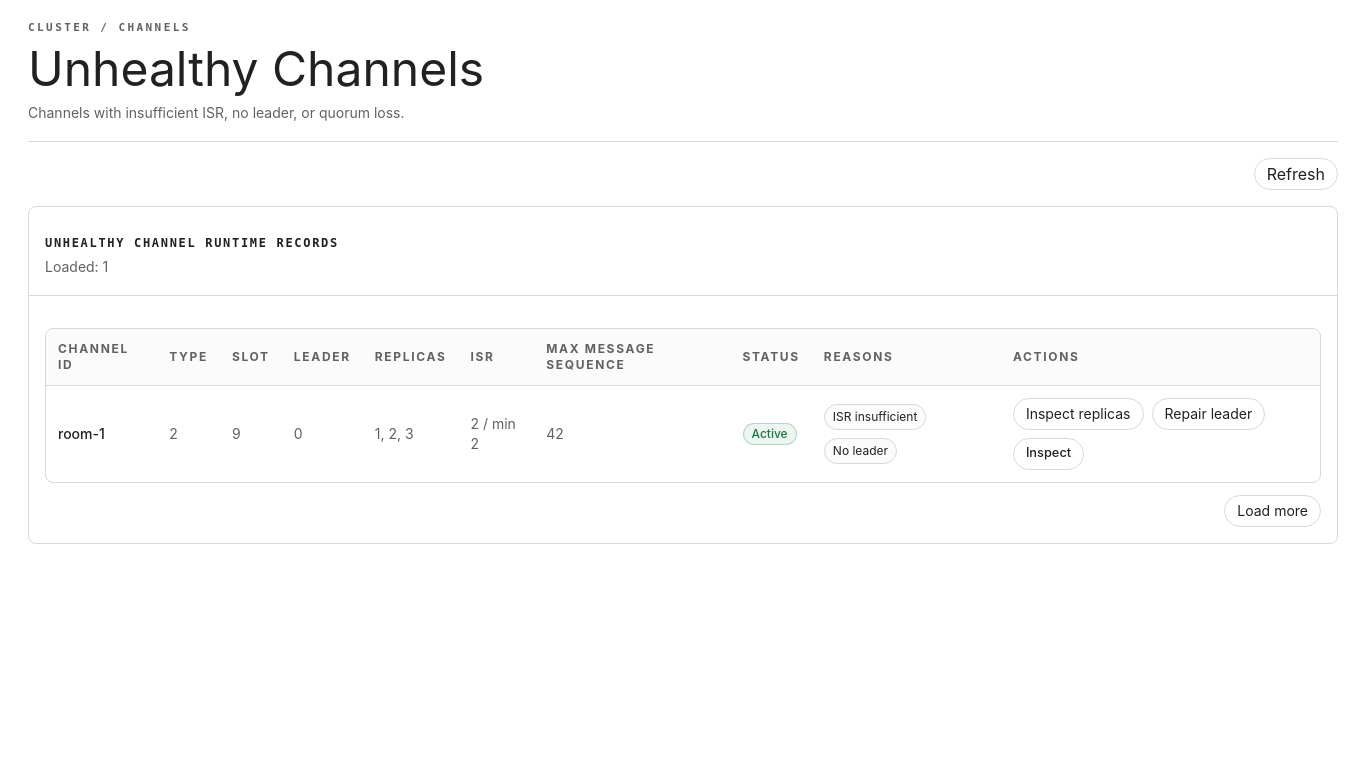
loads additional unhealthy pages with the returned cursor
The width and height of the screenshot is (1366, 768).
Check: the text "room-1" is shown, box [46,385,157,482]
Click the button "Load more".
click(1273, 510)  # box [1224,494,1321,526]
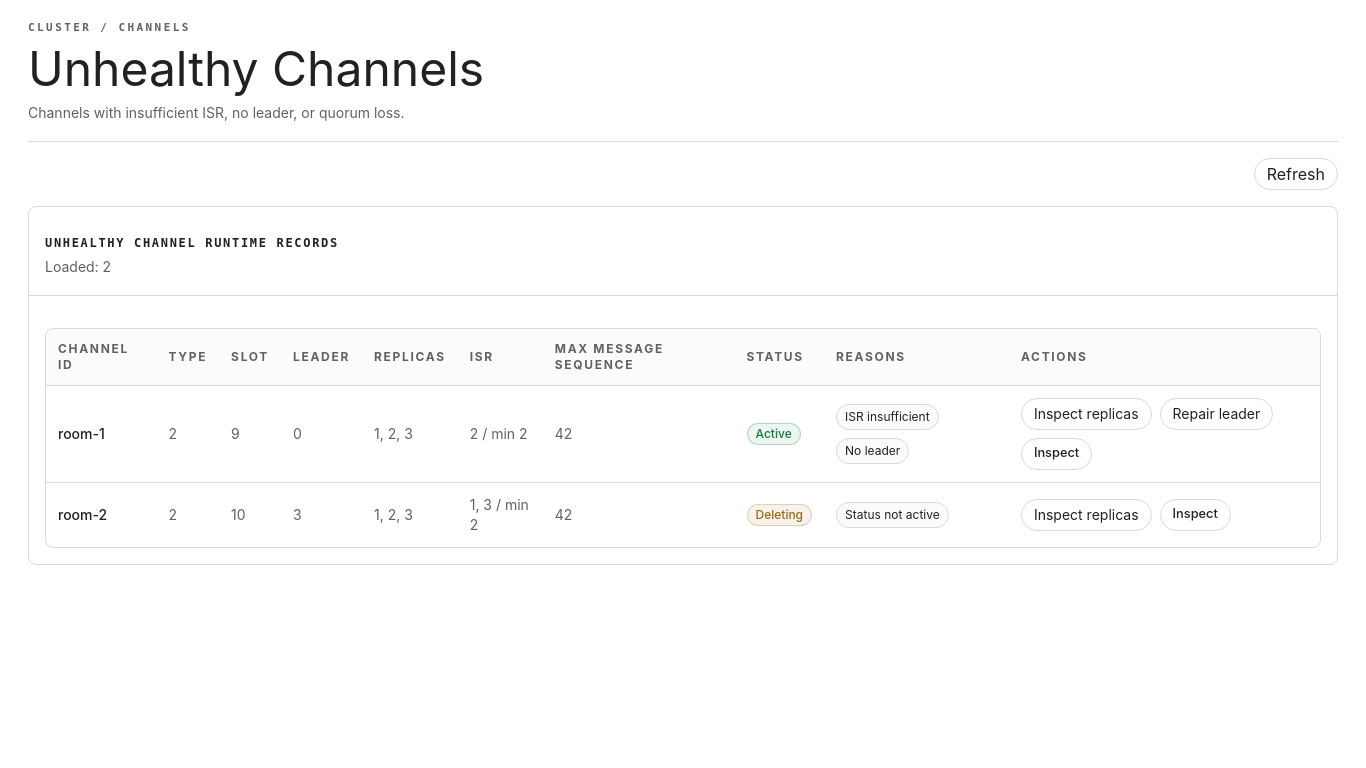
Check: the text "room-2" is shown, box [46,482,156,546]
